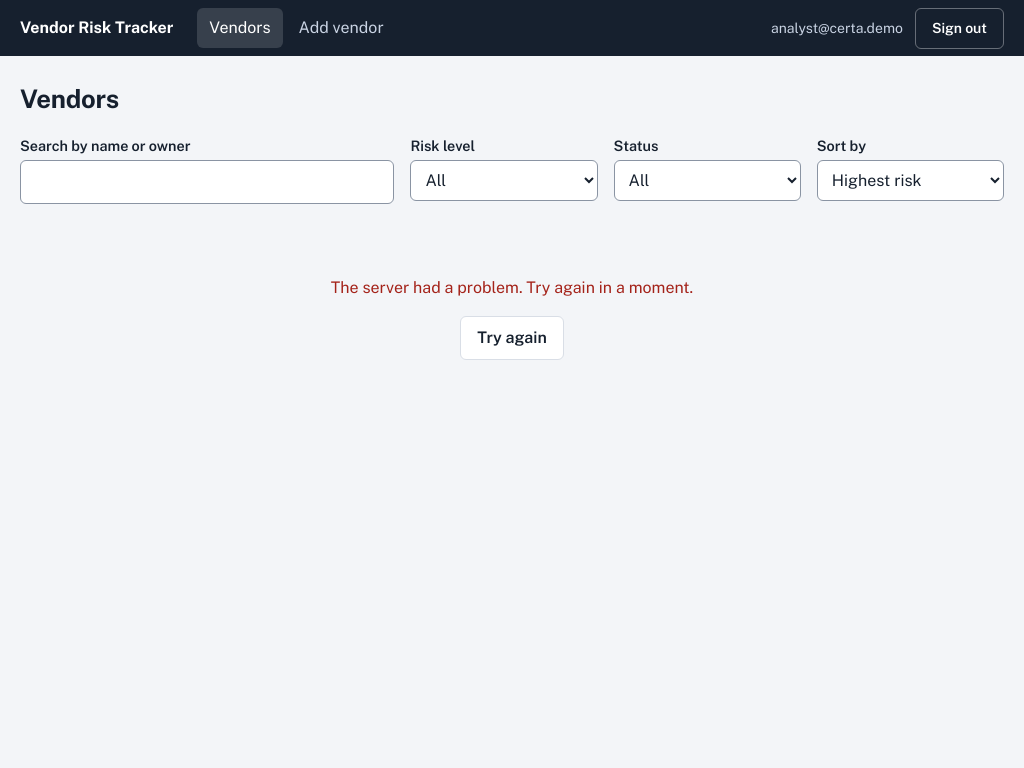
it: vendor list › shows an error and recovers when you retry
Expected: the message shows "The server had a problem", [331,278,693,297]
Click the button "Try again" at (512, 338), box [460,316,564,360]
(page scrolled)
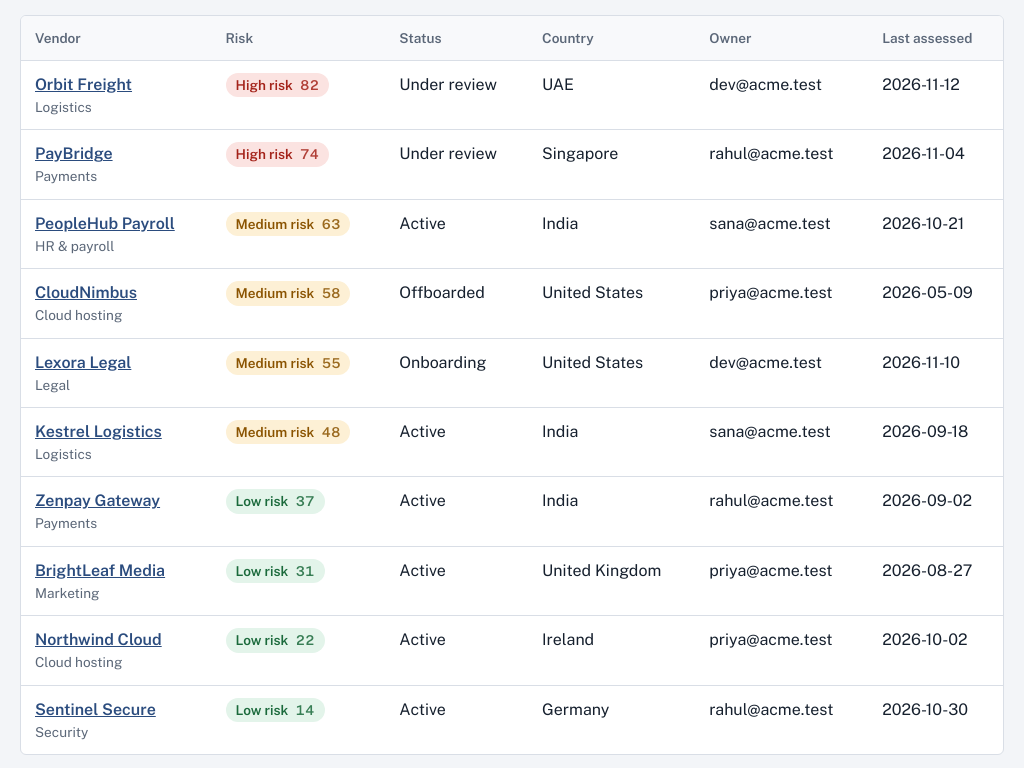
Expected: the table is shown
